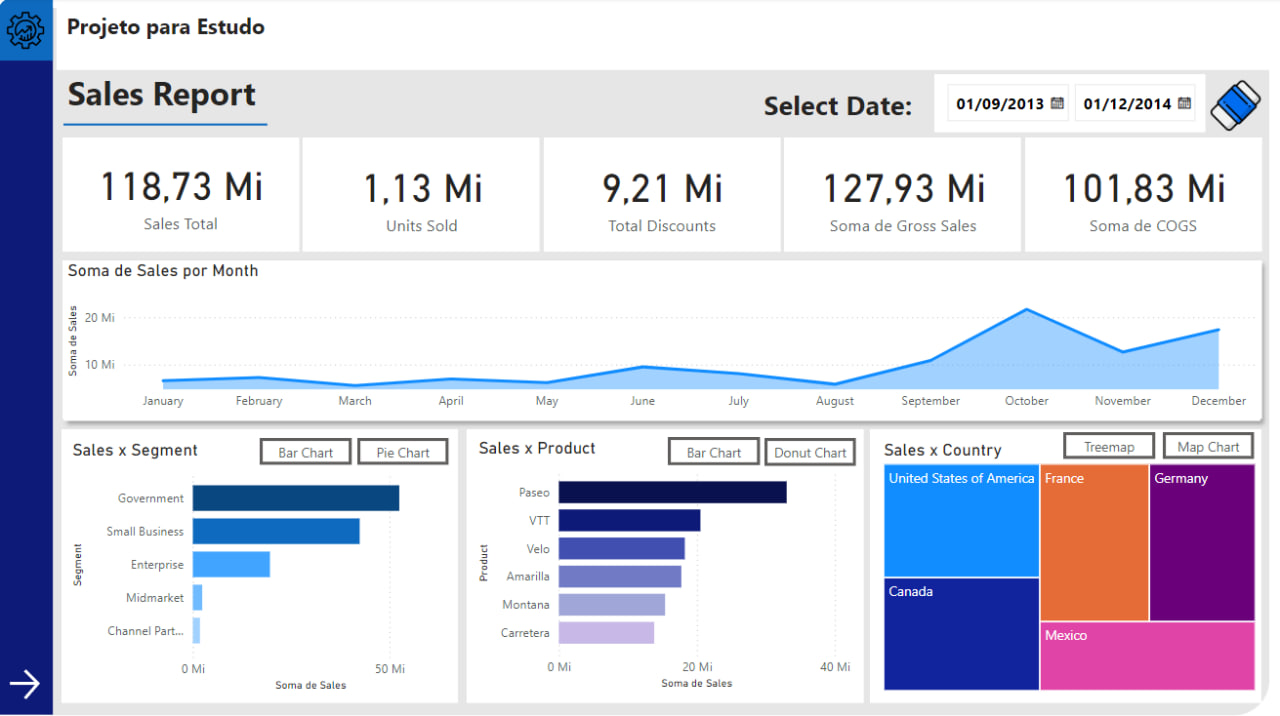

The page's visual inventory and layout, read from the dashboard file:
{"tool":"powerbi","page":{"name":"Page 1","canvas":[1280,720],"ordinal":0},"visuals":[{"type":"shape","box":[0,0,55,62.6],"z":0,"group":"g4"},{"type":"shape","box":[58.6,9.4,1221.7,63.5],"z":0,"group":"g5"},{"type":"shape","title":"BackGround","box":[16.7,10,1250,705.6],"z":0},{"type":"image","title":"Clean","box":[1198.7,75,67.5,63.8],"z":0,"group":"g2"},{"type":"shape","box":[64.9,110,203.3,32.4],"z":0,"group":"g3"},{"type":"shape","box":[63.8,138.8,236.3,113.8],"z":0,"group":"g1"},{"type":"textbox","box":[63.9,8,324.2,65.8],"z":1000,"group":"g5"},{"type":"shape","box":[0,10,55,705],"z":1000},{"type":"textbox","box":[63.9,66.8,215.1,58.9],"z":1000,"group":"g3"},{"type":"slicer","fields":{"Values":["financials.Date"]},"box":[932.2,75.6,270,57.8],"z":1000,"group":"g2"},{"type":"shape","box":[303.5,138.8,236.3,113.8],"z":1000,"group":"g1"},{"type":"clusteredBarChart","title":"Sales x Product ","fields":{"Y":["Sum(financials. Sales)"],"Category":["financials.Product"]},"box":[474,439,380,255],"z":1000,"group":"g7"},{"type":"treemap","title":"Sales x Country ","fields":{"Group":["financials.Country"],"Values":["Sum(financials. Sales)"]},"box":[877,441,380,255],"z":1234,"group":"g6"},{"type":"actionButton","title":"Button - Treemap","box":[1061.2,433.2,91.7,26.7],"z":1250,"group":"g6"},{"type":"actionButton","title":"Button - Map","box":[1160.3,433.2,90.8,26.7],"z":1500,"group":"g6"},{"type":"textbox","box":[757.2,82.4,169.2,46.9],"z":2000,"group":"g2"},{"type":"group","id":"g1","title":"Cartões","box":[63.8,138.8,1195,113.8],"z":2000},{"type":"shape","box":[543.1,138.8,236.3,113.8],"z":2000,"group":"g1"},{"type":"actionButton","title":"Button - Bar","box":[667.6,437.9,91.8,28.2],"z":2000,"group":"g7"},{"type":"clusteredBarChart","title":"Sales x Segment","fields":{"Y":["Sum(financials. Sales)"],"Category":["financials.Segment"]},"box":[69,441,380,255],"z":2000,"group":"g8"},{"type":"actionButton","box":[1202,76,57,59],"z":3000,"group":"g2"},{"type":"shape","box":[782.8,138.8,236.3,113.8],"z":3000,"group":"g1"},{"type":"shape","box":[56.2,252.5,1210,177.5],"z":3000},{"type":"actionButton","title":"Button - Donut","box":[764,439,91.1,27.8],"z":3000,"group":"g7"},{"type":"actionButton","title":"Button - Pie","box":[358.3,439.2,90.8,26.7],"z":3250,"group":"g8"},{"type":"actionButton","title":"Button - Bar","box":[260.8,439.2,91.7,26.7],"z":3500,"group":"g8"},{"type":"shape","box":[1022.5,138.8,236.3,113.8],"z":4000,"group":"g1"},{"type":"shape","box":[63.3,430,395,273.3],"z":4000},{"type":"card","fields":{"Values":["Sum(financials. Sales)"]},"box":[71,142,222,104],"z":5000,"group":"g1"},{"type":"shape","box":[466.7,430,395.6,273.3],"z":5000},{"type":"card","fields":{"Values":["Sum(financials.Units Sold)"]},"box":[311,144,222,104],"z":6000,"group":"g1"},{"type":"shape","box":[868.9,430,390,273.3],"z":6000},{"type":"actionButton","box":[6,664,41,40],"z":6500},{"type":"card","fields":{"Values":["Sum(financials.Discounts)"]},"box":[550,144,222,104],"z":7000,"group":"g1"},{"type":"areaChart","fields":{"Category":["financials.Date.Variation.Date Hierarchy.Month"],"Y":["Sum(financials. Sales)"]},"box":[63.8,261.2,1195,157.5],"z":7000},{"type":"group","id":"g2","title":"Filter by Date","box":[757.2,75,509,63.8],"z":8000},{"type":"card","fields":{"Values":["Sum(financials.Gross Sales)"]},"box":[790,144,222,104],"z":8000,"group":"g1"},{"type":"group","id":"g3","title":"Title Report","box":[63.9,66.8,215.1,75.6],"z":9000},{"type":"card","fields":{"Values":["Sum(financials.COGS)"]},"box":[1030,144,222,104],"z":9000,"group":"g1"},{"type":"group","id":"g4","title":"Logo ","box":[0,0,55,62.6],"z":10000},{"type":"group","id":"g5","title":"Course Title","box":[58.6,8,1221.7,65.8],"z":11000},{"type":"group","id":"g6","title":"Salex x Country","box":[877,433.2,381,262.8],"z":13000},{"type":"group","id":"g7","title":"Sales x Product","box":[474,437.9,381.1,256.5],"z":14000},{"type":"group","id":"g8","title":"Sales x Segment","box":[69,439,380.2,257],"z":19500},{"type":"image","box":[3.9,7.8,46.7,48.6],"z":19501,"group":"g4"}]}

Visuals, with their boxes on the page's 1280x720 design canvas (x1, y1, x2, y2). These are canvas units, not pixel positions in the 1280x716 screenshot, which may show the page scaled, cropped or inside an application window:
shape: region(0, 0, 55, 63)
shape: region(59, 9, 1280, 73)
"BackGround" shape: region(17, 10, 1267, 716)
"Clean" image: region(1199, 75, 1266, 139)
shape: region(65, 110, 268, 142)
shape: region(64, 139, 300, 253)
textbox: region(64, 8, 388, 74)
shape: region(0, 10, 55, 715)
textbox: region(64, 67, 279, 126)
slicer - financials.Date: region(932, 76, 1202, 133)
shape: region(304, 139, 540, 253)
"Sales x Product " clusteredBarChart: region(474, 439, 854, 694)
"Sales x Country " treemap: region(877, 441, 1257, 696)
"Button - Treemap" actionButton: region(1061, 433, 1153, 460)
"Button - Map" actionButton: region(1160, 433, 1251, 460)
textbox: region(757, 82, 926, 129)
"Cartões" group: region(64, 139, 1259, 253)
shape: region(543, 139, 779, 253)
"Button - Bar" actionButton: region(668, 438, 759, 466)
"Sales x Segment" clusteredBarChart: region(69, 441, 449, 696)
actionButton: region(1202, 76, 1259, 135)
shape: region(783, 139, 1019, 253)
shape: region(56, 252, 1266, 430)
"Button - Donut" actionButton: region(764, 439, 855, 467)
"Button - Pie" actionButton: region(358, 439, 449, 466)
"Button - Bar" actionButton: region(261, 439, 352, 466)
shape: region(1022, 139, 1259, 253)
shape: region(63, 430, 458, 703)
card - Sum(financials. Sales): region(71, 142, 293, 246)
shape: region(467, 430, 862, 703)
card - Sum(financials.Units Sold): region(311, 144, 533, 248)
shape: region(869, 430, 1259, 703)
actionButton: region(6, 664, 47, 704)
card - Sum(financials.Discounts): region(550, 144, 772, 248)
areaChart - financials.Date.Variation.Date Hierarchy.Month x Sum(financials. Sales): region(64, 261, 1259, 419)
"Filter by Date" group: region(757, 75, 1266, 139)
card - Sum(financials.Gross Sales): region(790, 144, 1012, 248)
"Title Report" group: region(64, 67, 279, 142)
card - Sum(financials.COGS): region(1030, 144, 1252, 248)
"Logo " group: region(0, 0, 55, 63)
"Course Title" group: region(59, 8, 1280, 74)
"Salex x Country" group: region(877, 433, 1258, 696)
"Sales x Product" group: region(474, 438, 855, 694)
"Sales x Segment" group: region(69, 439, 449, 696)
image: region(4, 8, 51, 56)
